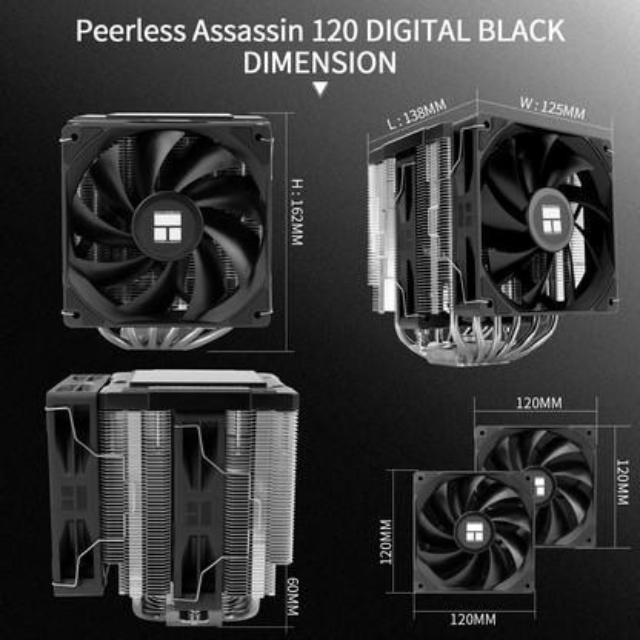CPU_Fan: (15, 366, 314, 632), (349, 93, 631, 364), (49, 96, 291, 362)
